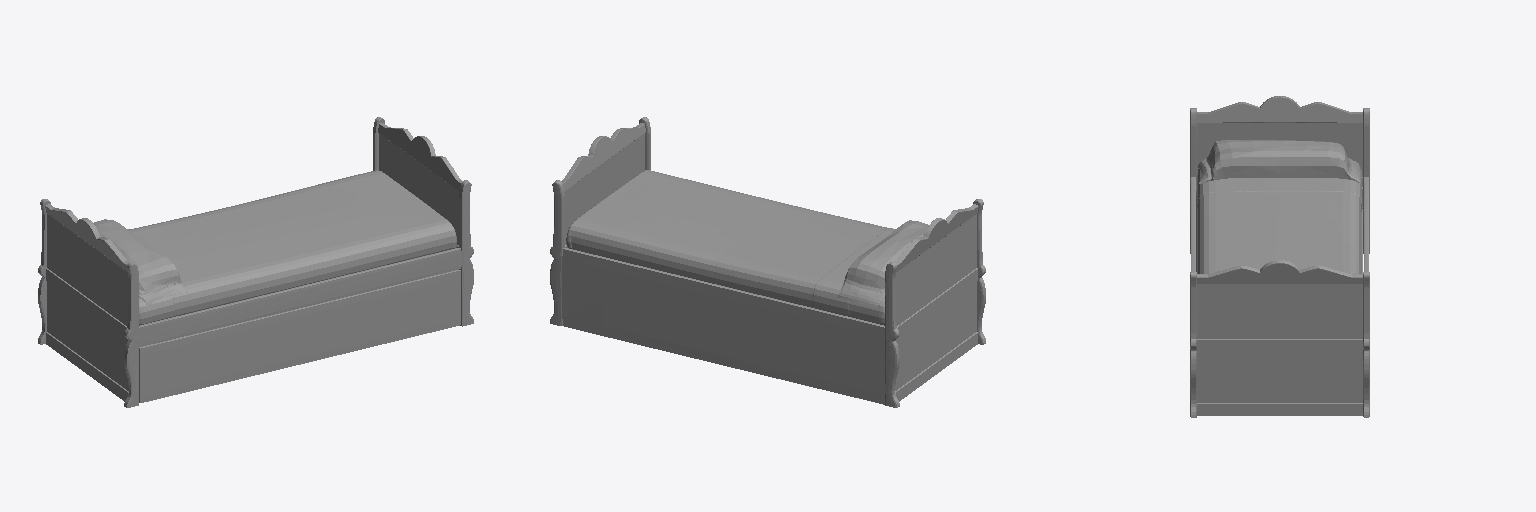
Rendered from children_bed.obj.
3 renders of one model, left to right at view 1: azimuth 30°, elevation 25°; view 2: azimuth 150°, elevation 25°; view 3: azimuth 270°, elevation 25°, orthographic.
Parts seen in each view (by area): view 1: Cube.001, Cube.002, Cube.002_Cube.003; view 2: Cube.001, Cube.002, Cube.002_Cube.003; view 3: Cube.001, Cube.002, Cube.002_Cube.003.
Boxes of the visible parts, <box> form: Cube.001: <box>38,117,473,407</box>; Cube.002: <box>128,170,456,325</box>; Cube.002_Cube.003: <box>93,219,187,306</box>; Cube.001: <box>550,117,985,407</box>; Cube.002: <box>566,170,895,325</box>; Cube.002_Cube.003: <box>838,220,928,308</box>; Cube.001: <box>1190,96,1369,417</box>; Cube.002: <box>1197,161,1362,273</box>; Cube.002_Cube.003: <box>1198,140,1361,185</box>.
Bounding box in the file's own units: 3.53 × 1.5 × 1.58.